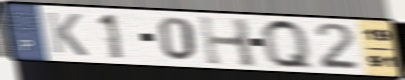0: (156, 16, 198, 63)
1: (95, 12, 126, 60)
2: (312, 21, 363, 72)
H: (196, 14, 260, 69)
K: (44, 10, 90, 58)
Q: (258, 17, 318, 73)
